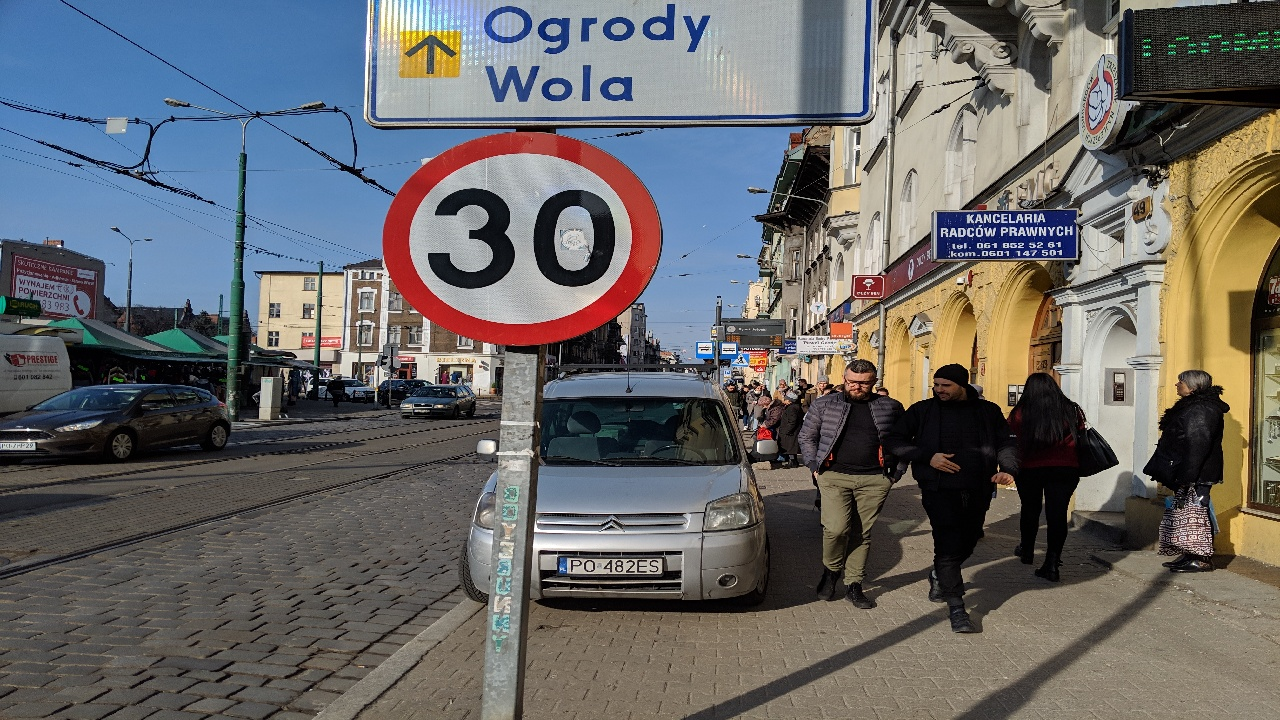B33_30: (383, 133, 661, 345)
